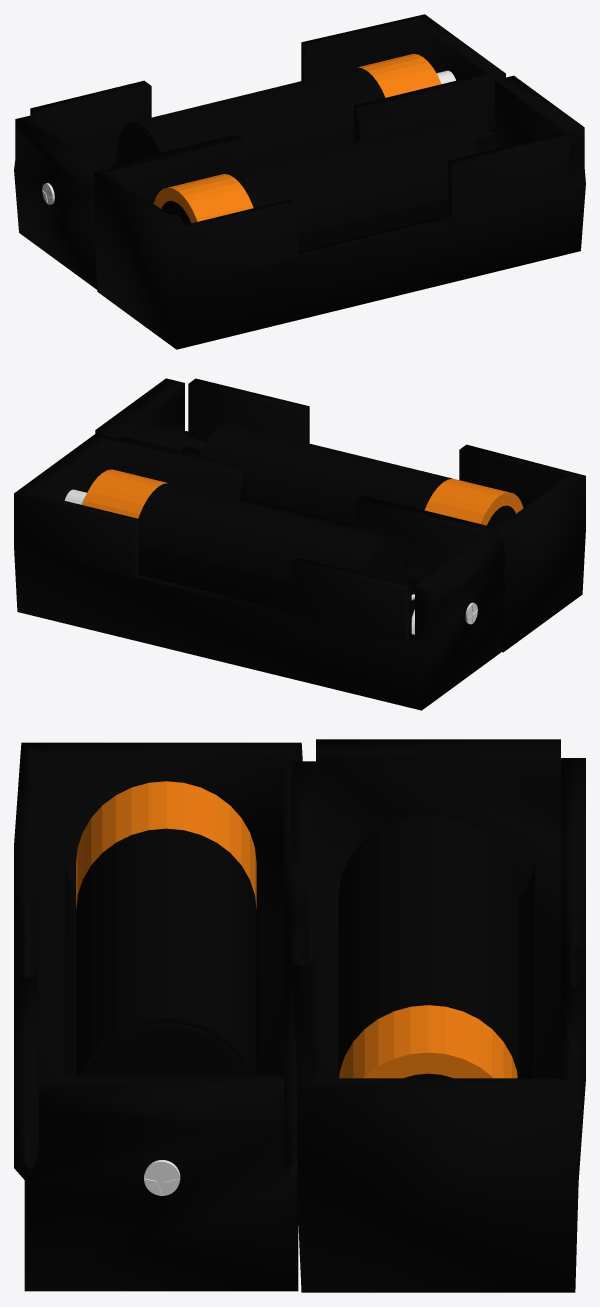
File: Buttery30Volt.fbx
3 renders of one model, top to bottom at view 1: azimuth 30°, elevation 25°; view 2: azimuth 150°, elevation 25°; view 3: azimuth 270°, elevation 25°, orthographic. The views are drawn at different scales.
Parts seen in each view (by area): view 1: Battery.004, Battery.002, buttery.003, buttery.002, Cylinder.006; view 2: Battery.002, Battery.004, buttery.002, buttery.003, Cylinder.003; view 3: Battery.002, Battery.004, buttery.003, buttery.002, Cylinder.003, Cylinder.006, Cylinder.009.
Boxes of the visible parts, bbox=[...] form: Battery.004: bbox=[94, 75, 585, 349]; Battery.002: bbox=[14, 14, 505, 289]; buttery.003: bbox=[153, 119, 477, 245]; buttery.002: bbox=[116, 53, 441, 168]; Cylinder.006: bbox=[298, 142, 496, 250]; Battery.002: bbox=[14, 434, 505, 710]; Battery.004: bbox=[95, 378, 585, 652]; buttery.002: bbox=[82, 469, 408, 604]; buttery.003: bbox=[200, 424, 523, 528]; Cylinder.003: bbox=[140, 568, 421, 639]; Battery.002: bbox=[291, 739, 585, 1292]; Battery.004: bbox=[14, 742, 308, 1291]; buttery.003: bbox=[76, 781, 256, 1076]; buttery.002: bbox=[338, 815, 518, 1078]; Cylinder.003: bbox=[340, 858, 534, 1078]; Cylinder.006: bbox=[65, 857, 259, 1076]; Cylinder.009: bbox=[144, 1160, 180, 1195].
Bounding box in the file's own units: 5.12 × 1.36 × 3.44.
